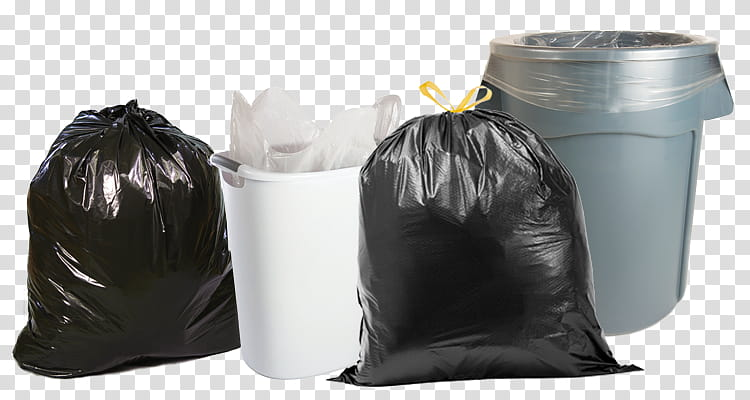plastic_bagwdw: (318, 50, 670, 399), (186, 48, 451, 400), (6, 60, 253, 400), (316, 396, 320, 400)
